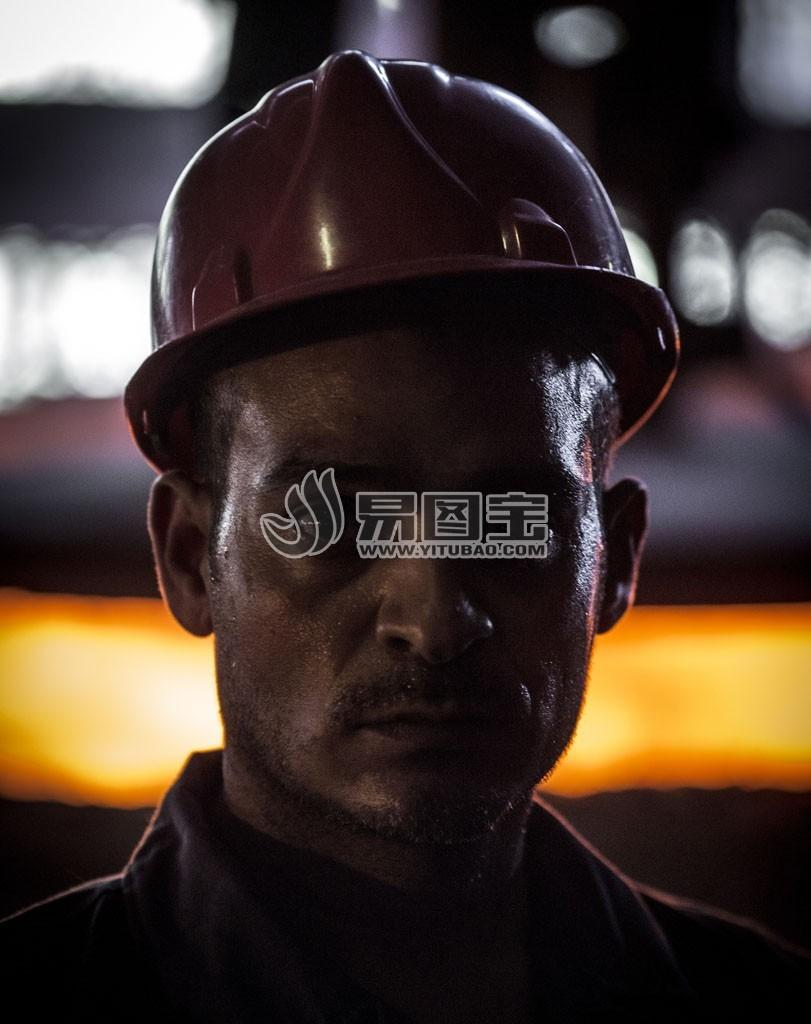helmet: (101, 49, 710, 466)
